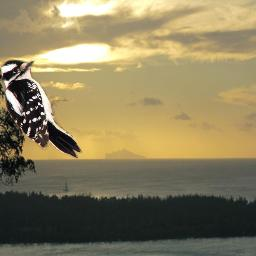Woodpecker: (0, 59, 83, 160)
